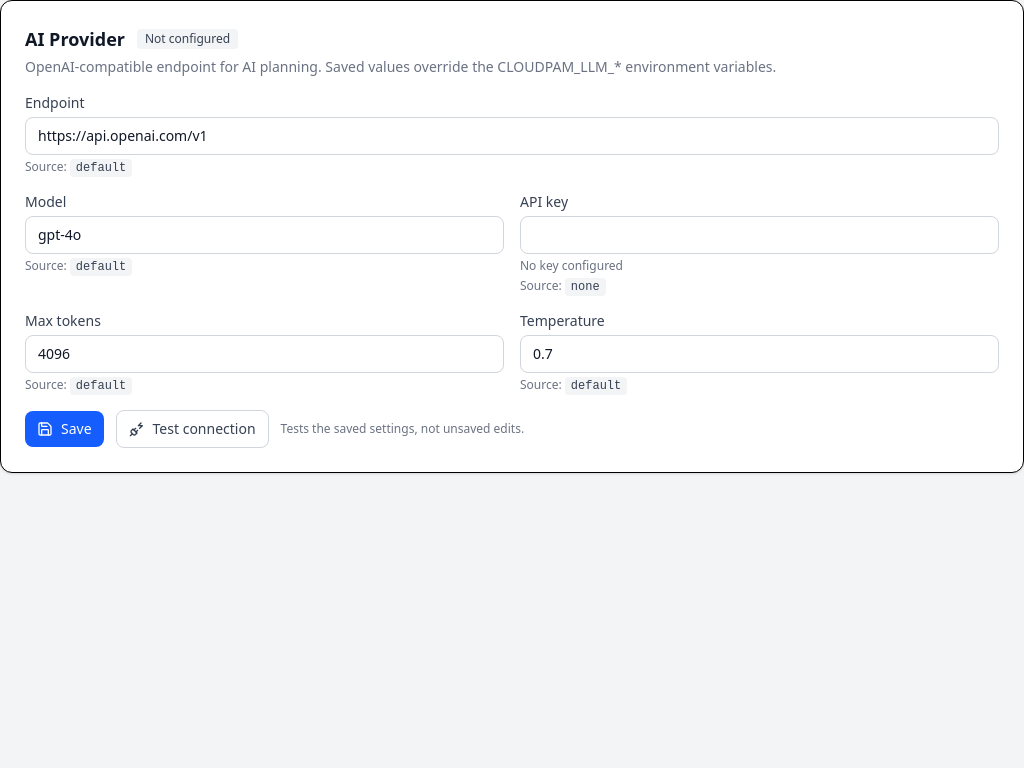
Test: AIProviderSettingsCard › shows the reachable summary after a successful test
This screenshot has width=1024, height=768.
Check: the field labelled "Endpoint" is shown, box [25,117,999,155]
Check: the field labelled "Model" is not empty, box [25,216,504,254]
Step 1. Click the button "Test connection" → (192, 429), box [116,410,269,448]
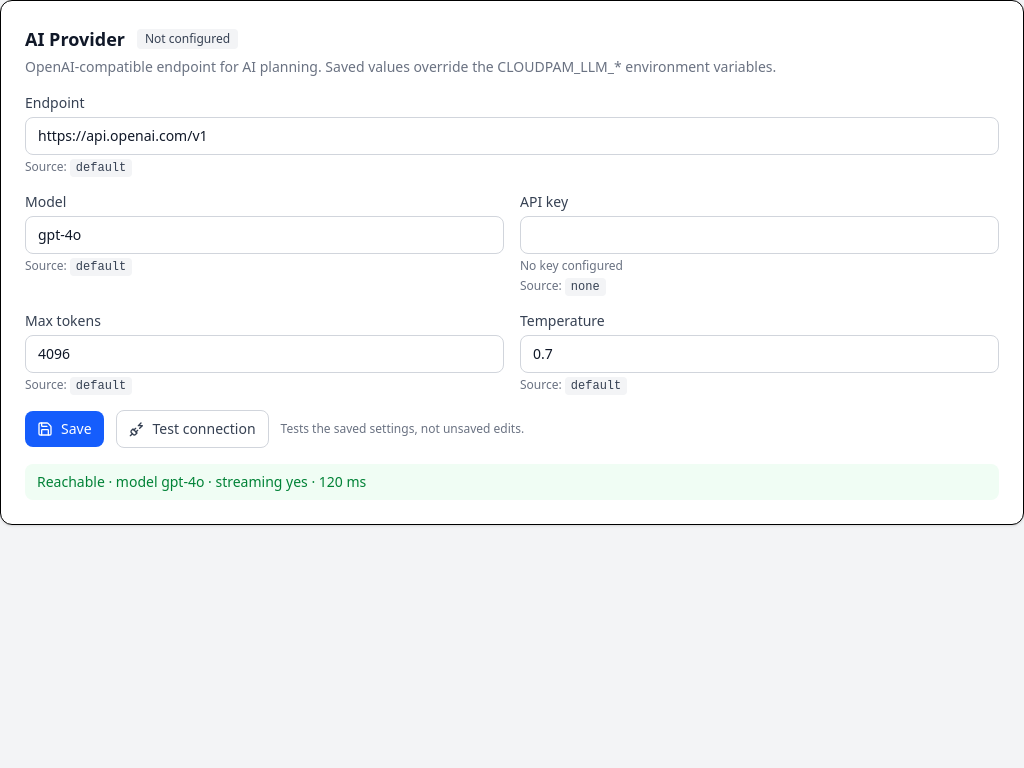
Check: the text "Reachable · model gpt-4o · streaming yes · 120 ms" is shown, box [25,464,999,500]
